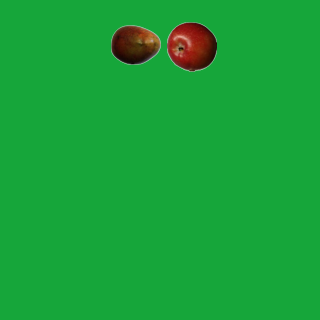Apple Braeburn: (166, 21, 216, 71)
Mango Red: (110, 19, 160, 69)
